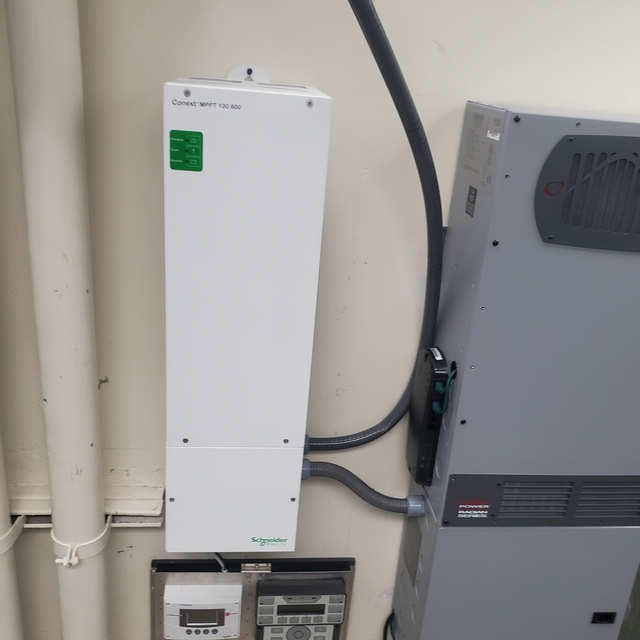charge_controller: (163, 74, 335, 556)
